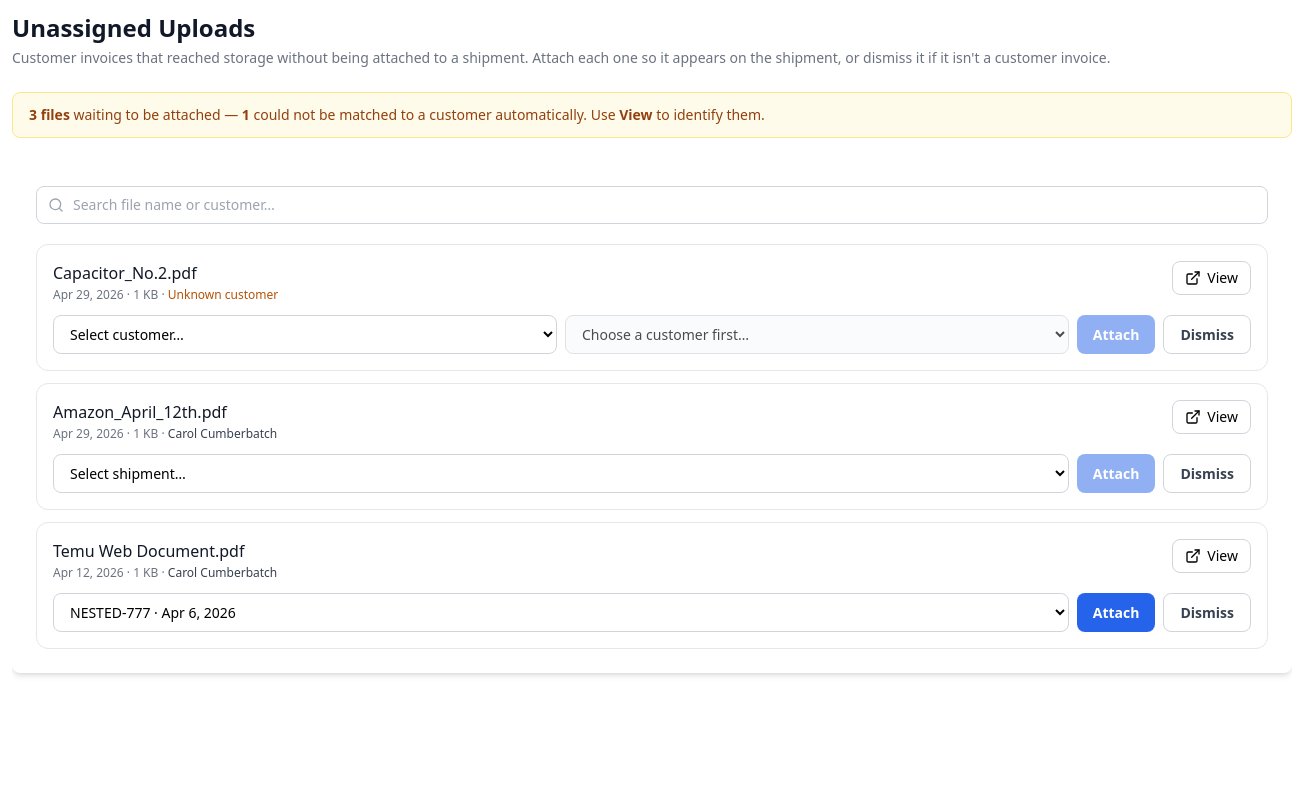
Test: AdminUnassignedUploads › assigns a resolved file to the chosen shipment
Check: the text "Amazon_April_12th.pdf" is shown, box [53,401,227,423]
Select "TBA-222 · Apr 5, 2026" in the dropdown named "Shipment" below "Amazon_April_12th.pdf": point(561, 474) [53,454,1069,493]
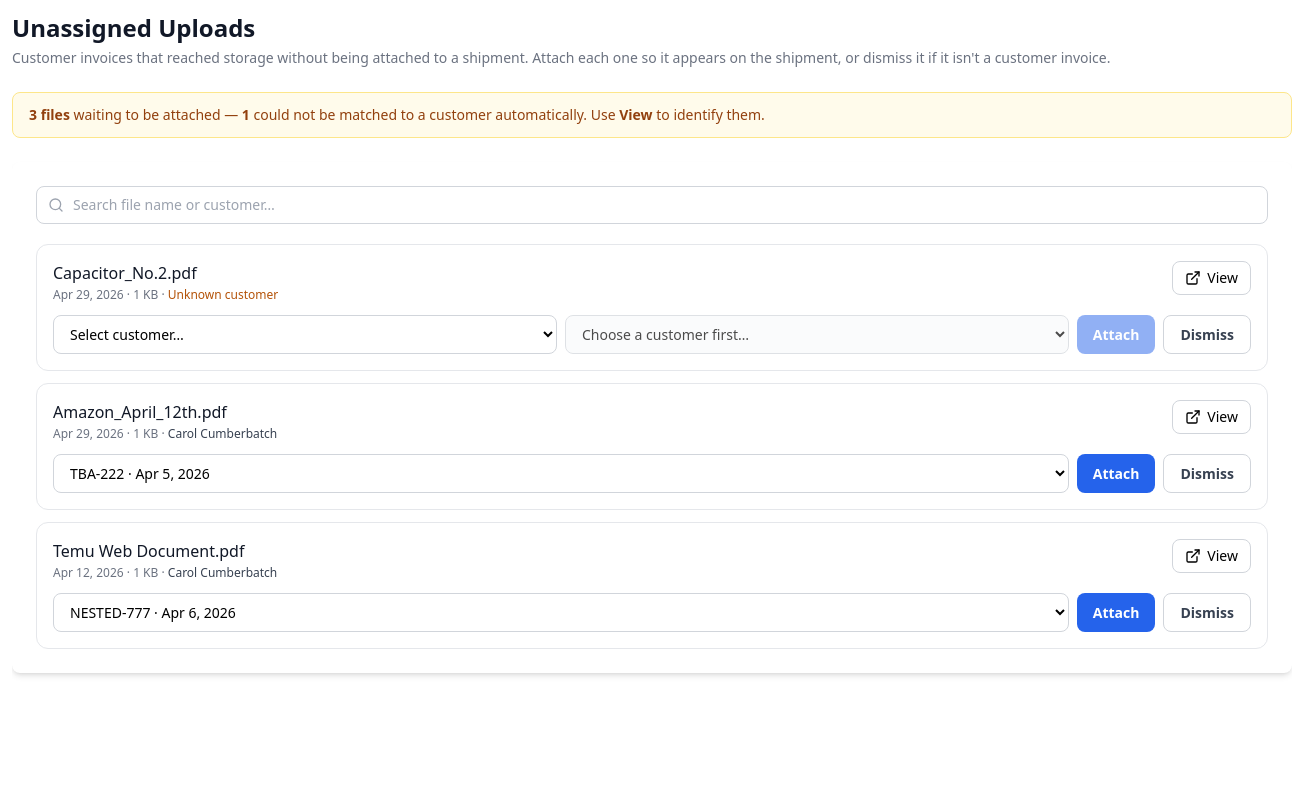
Click the 2nd button "Attach": point(1116, 474) [1077,454,1156,493]
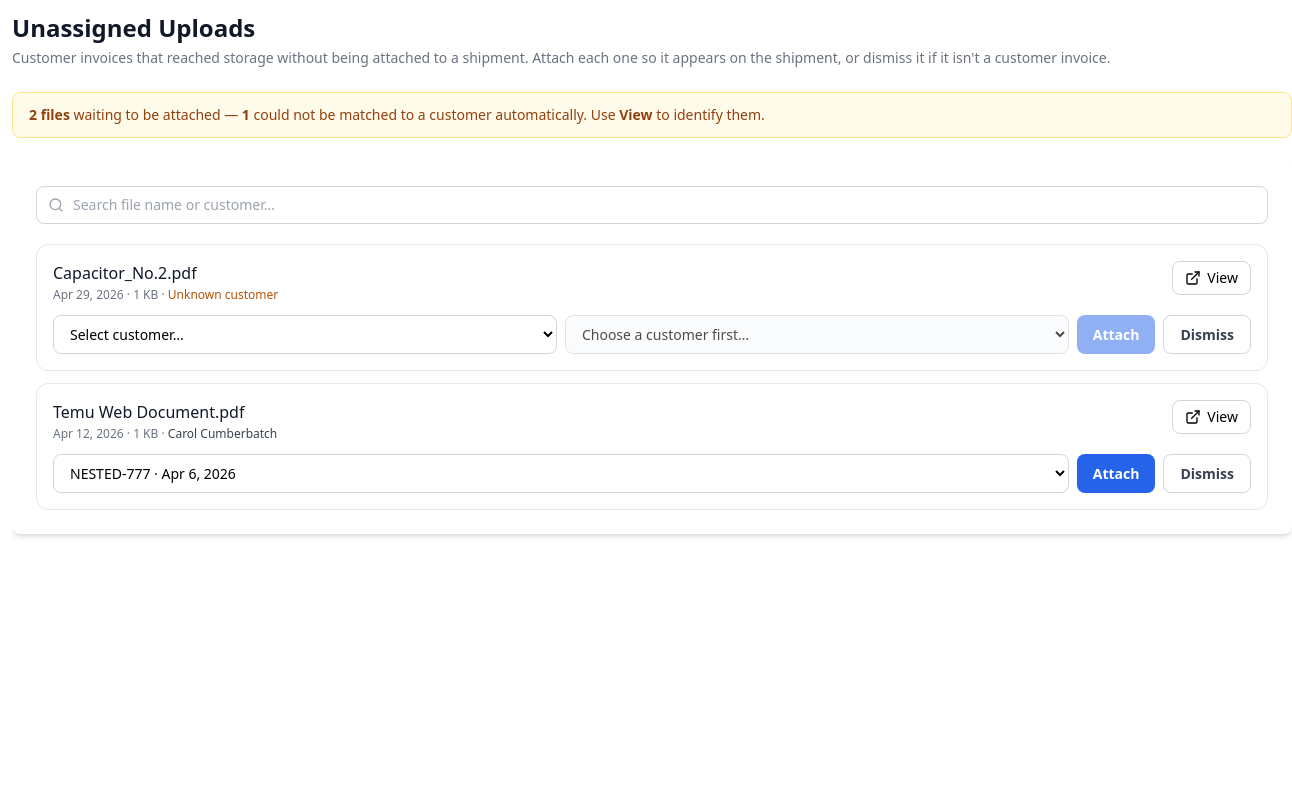
Check: the text "Amazon_April_12th.pdf" is gone
